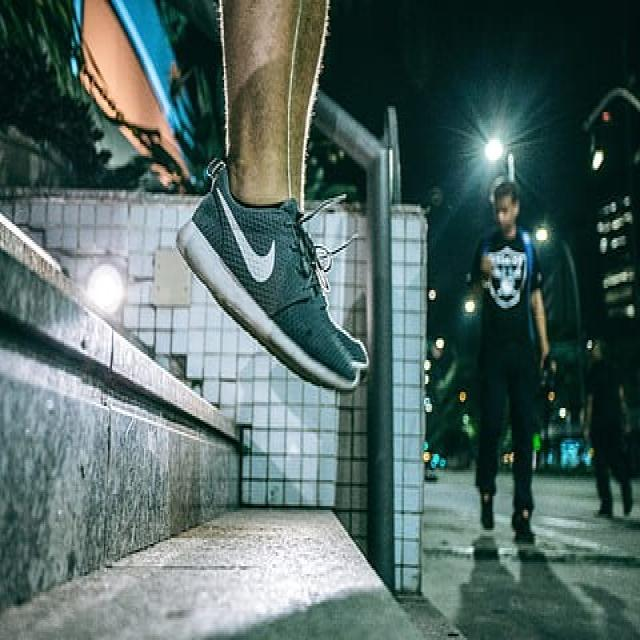nike: (213, 179, 280, 289)
